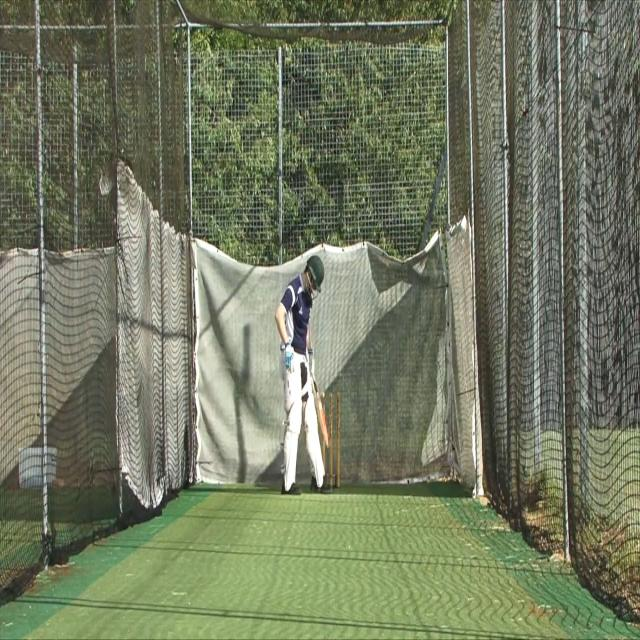batsman: (274, 253, 334, 497)
